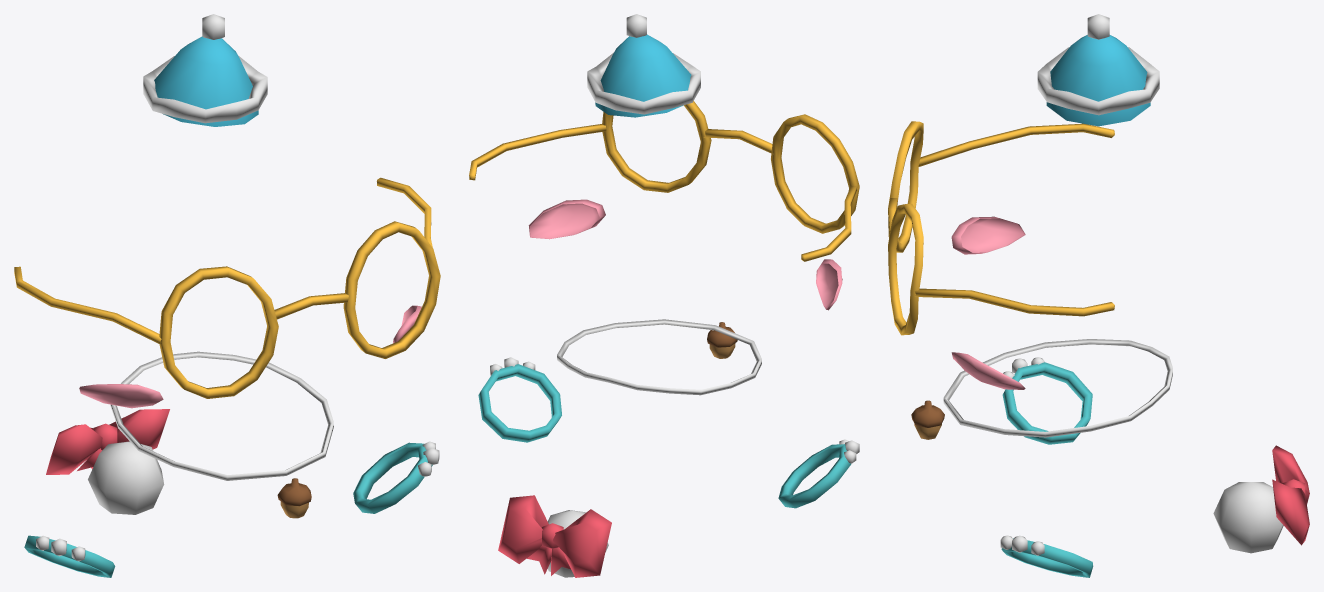
The model's file is bear-attachments-slice-b.fbx.
The picture shows the model from 3 angles, left to right: view 1: azimuth 30°, elevation 25°; view 2: azimuth 150°, elevation 25°; view 3: azimuth 270°, elevation 25°; orthographic projection. The views are drawn at different scales.
Visible parts, largest first — view 1: Bear__Eyewear_RoundSpecs, Bear__Hat_PartyHat, Bear__Tail_AltBow_Nub, Bear__Tail_AltBow, Bear__Hat_PartyHat_Trim, Bear__Neck_Acorn_Cord, Bear__WristR_Bands, Bear__CheekL_Blush, Bear__WristL_Bands, Bear__Neck_Acorn_Cap, Bear__WristL_Bands_Beads; view 2: Bear__Eyewear_RoundSpecs, Bear__Tail_AltBow, Bear__Hat_PartyHat, Bear__Hat_PartyHat_Trim, Bear__Neck_Acorn_Cord, Bear__WristR_Bands, Bear__CheekR_Blush, Bear__WristL_Bands, Bear__CheekL_Blush, Bear__Tail_AltBow_Nub; view 3: Bear__Eyewear_RoundSpecs, Bear__Hat_PartyHat, Bear__Tail_AltBow_Nub, Bear__Hat_PartyHat_Trim, Bear__Neck_Acorn_Cord, Bear__Tail_AltBow, Bear__WristL_Bands, Bear__CheekL_Blush, Bear__WristR_Bands, Bear__CheekR_Blush, Bear__Neck_Acorn_Cap, Bear__WristR_Bands_Beads.
Part boxes in pixels (left/top/right/bottom): Bear__Eyewear_RoundSpecs: left=14, top=177, right=440, bottom=398; Bear__Hat_PartyHat: left=154, top=36, right=258, bottom=126; Bear__Tail_AltBow_Nub: left=88, top=441, right=164, bottom=514; Bear__Tail_AltBow: left=46, top=409, right=169, bottom=474; Bear__Hat_PartyHat_Trim: left=143, top=14, right=267, bottom=123; Bear__Neck_Acorn_Cord: left=110, top=351, right=333, bottom=480; Bear__WristR_Bands: left=353, top=442, right=432, bottom=513; Bear__CheekL_Blush: left=79, top=384, right=163, bottom=408; Bear__WristL_Bands: left=24, top=535, right=115, bottom=577; Bear__Neck_Acorn_Cap: left=277, top=478, right=311, bottom=506; Bear__WristL_Bands_Beads: left=36, top=535, right=85, bottom=561; Bear__Eyewear_RoundSpecs: left=469, top=101, right=859, bottom=261; Bear__Tail_AltBow: left=498, top=495, right=611, bottom=577; Bear__Hat_PartyHat: left=595, top=34, right=691, bottom=117; Bear__Hat_PartyHat_Trim: left=587, top=14, right=700, bottom=114; Bear__Neck_Acorn_Cord: left=557, top=319, right=761, bottom=395; Bear__WristR_Bands: left=478, top=364, right=561, bottom=442; Bear__CheekR_Blush: left=528, top=199, right=605, bottom=239; Bear__WristL_Bands: left=778, top=444, right=851, bottom=508; Bear__CheekL_Blush: left=816, top=259, right=842, bottom=310; Bear__Tail_AltBow_Nub: left=547, top=510, right=608, bottom=577; Bear__Eyewear_RoundSpecs: left=888, top=121, right=1114, bottom=335; Bear__Hat_PartyHat: left=1046, top=35, right=1150, bottom=126; Bear__Tail_AltBow_Nub: left=1213, top=482, right=1283, bottom=553; Bear__Hat_PartyHat_Trim: left=1037, top=14, right=1159, bottom=115; Bear__Neck_Acorn_Cord: left=943, top=339, right=1172, bottom=437; Bear__Tail_AltBow: left=1272, top=445, right=1309, bottom=545; Bear__WristL_Bands: left=1002, top=362, right=1092, bottom=444; Bear__CheekL_Blush: left=951, top=216, right=1025, bottom=254; Bear__WristR_Bands: left=1001, top=538, right=1093, bottom=577; Bear__CheekR_Blush: left=951, top=352, right=1025, bottom=389; Bear__Neck_Acorn_Cap: left=911, top=400, right=944, bottom=427; Bear__WristR_Bands_Beads: left=1000, top=535, right=1044, bottom=555.
Bounding box in the file's own units: 98.52 × 131 × 92.68.
